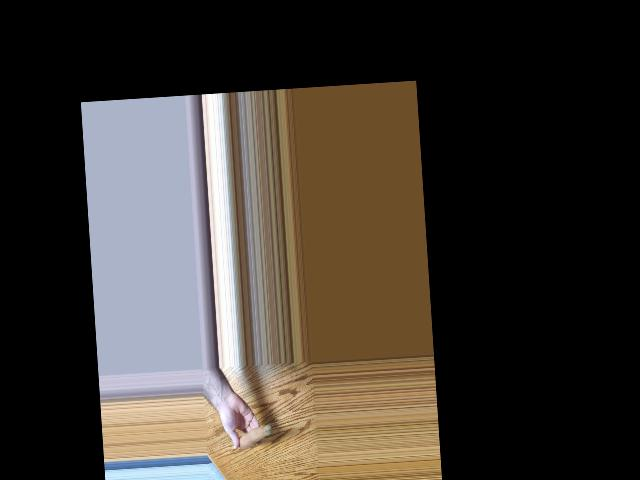sweet_potato: (235, 422, 272, 449)
